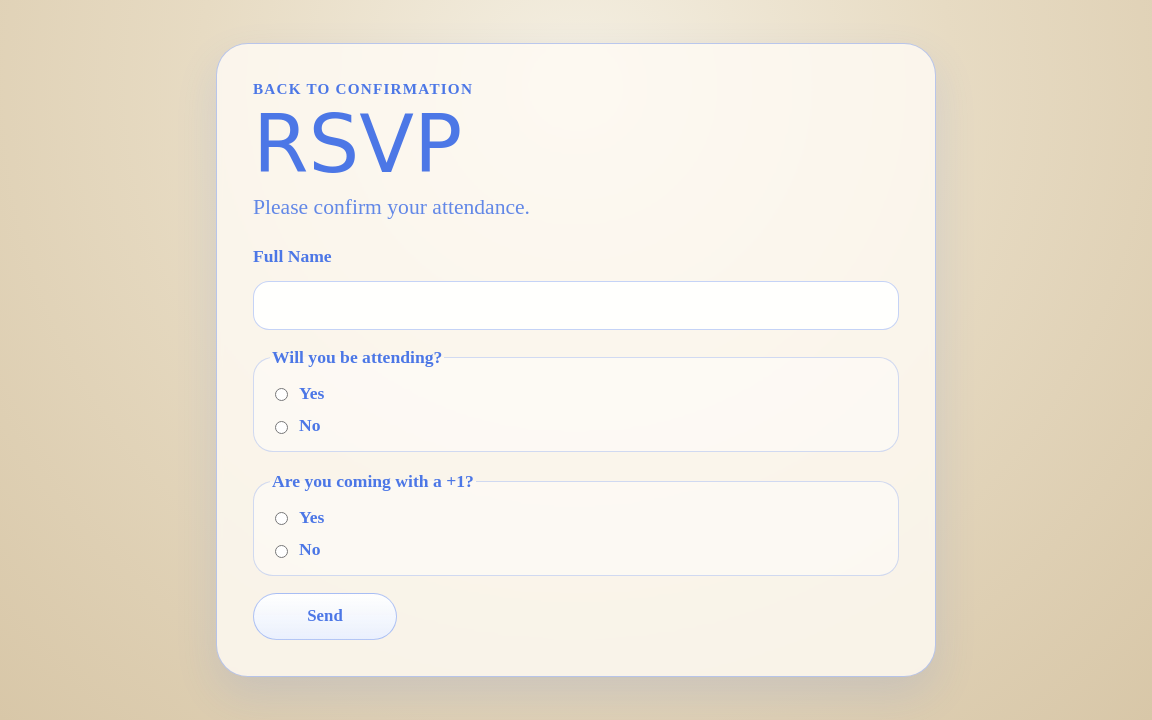
rsvp page › saves the RSVP and shows a success message without requiring the email step
The width and height of the screenshot is (1152, 720).
Type "Jake Example" into the field labelled "Full Name" at (576, 306), box [253, 281, 899, 330]
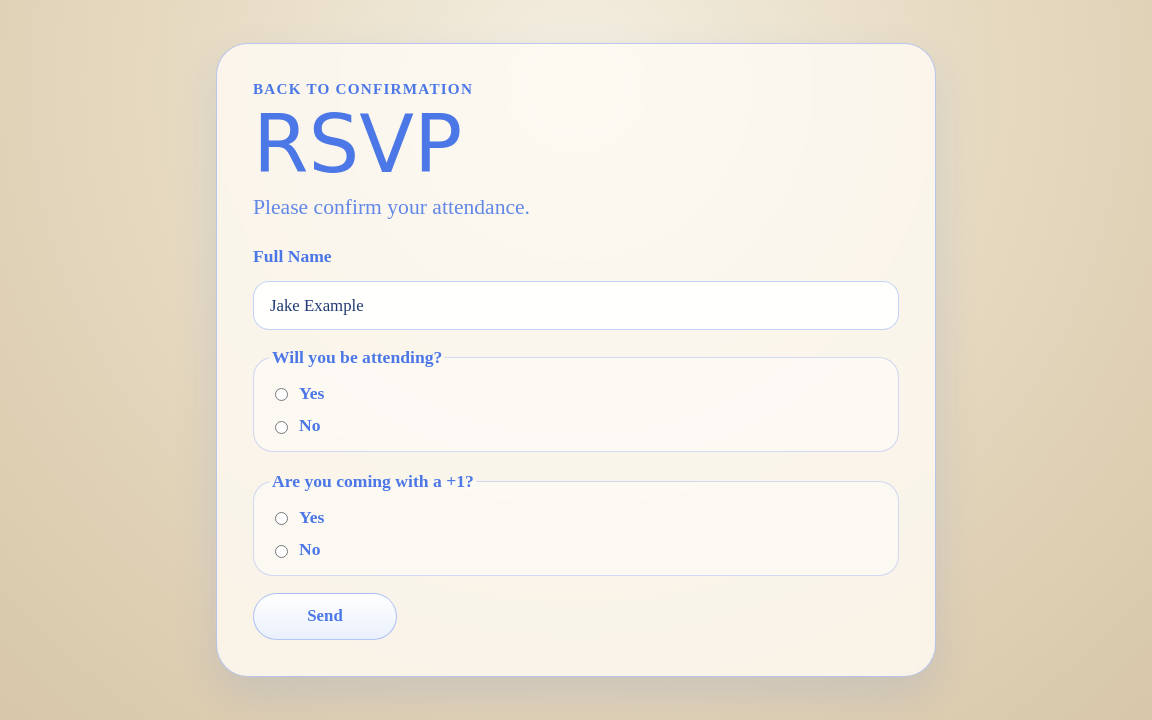
Click the radio button labelled "Yes" below "Will you be attending?" at (282, 395), box [275, 388, 288, 402]
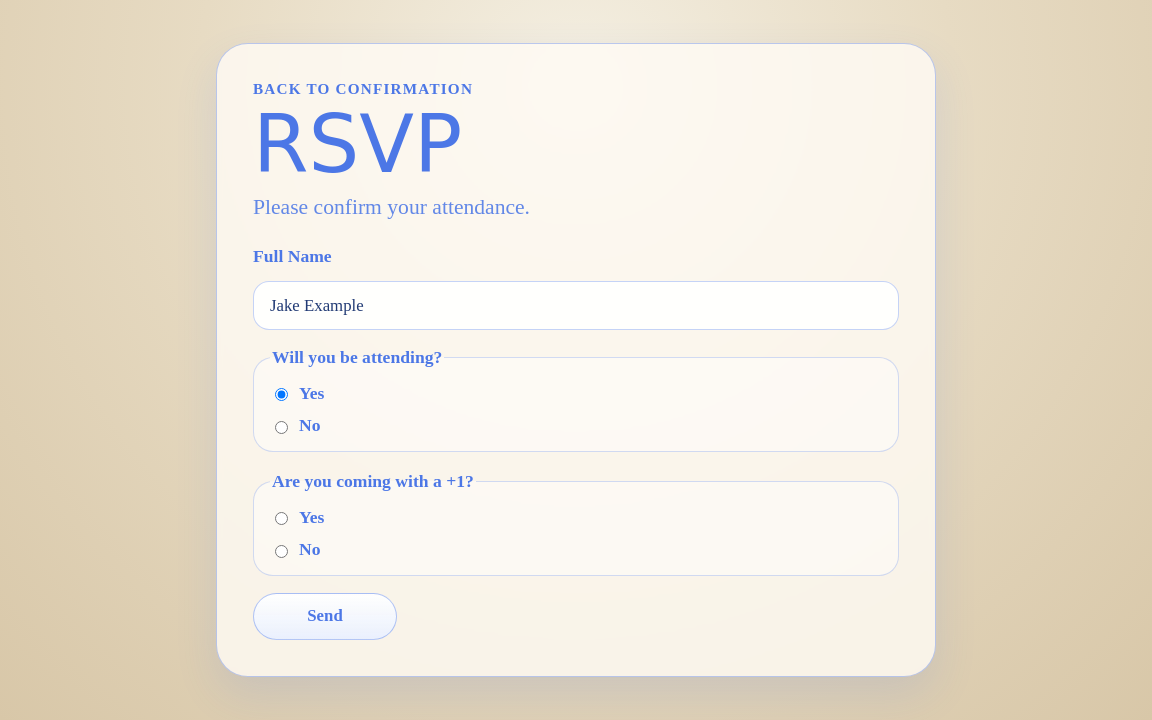
Click the radio button labelled "No" below "Are you coming with a +1?" at (282, 551), box [275, 545, 288, 558]
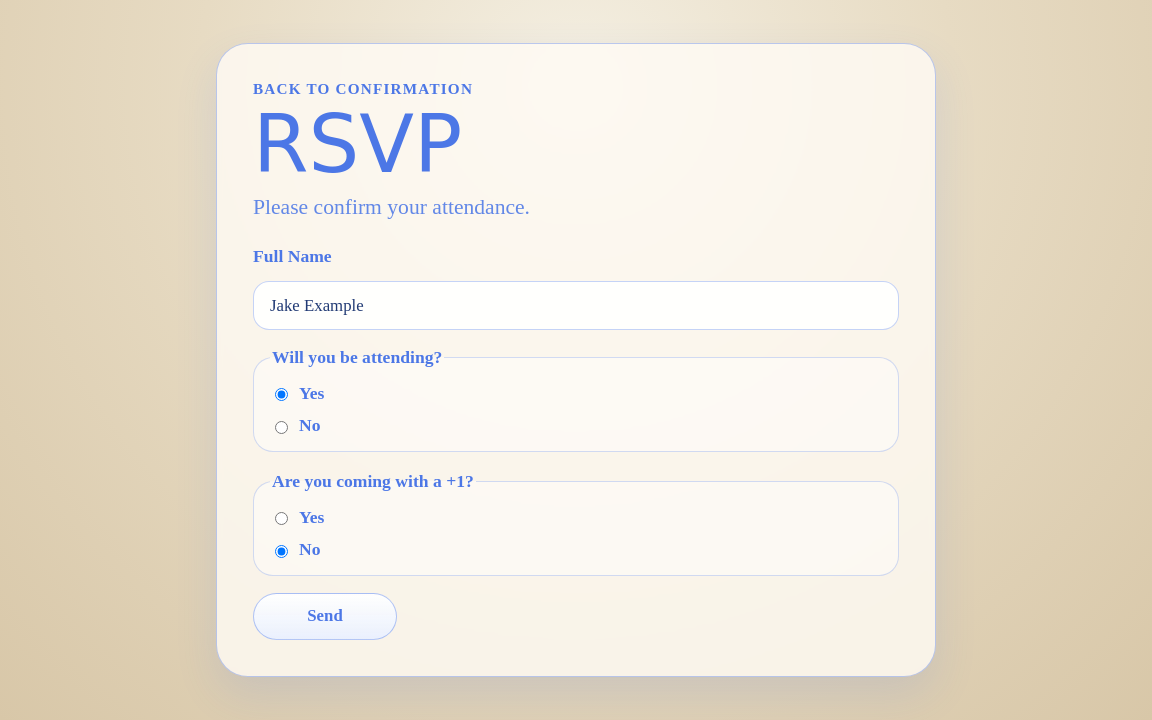
Click the button "Send" at (325, 616), box [253, 593, 397, 640]
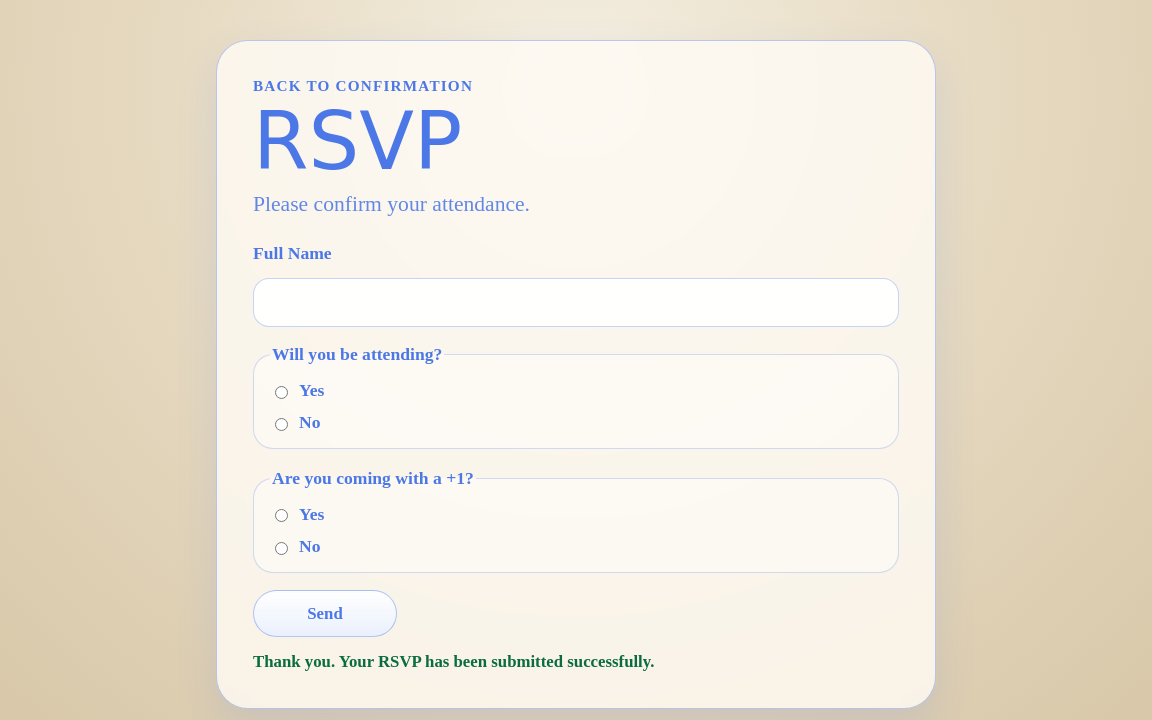
Result: the text "Thank you. Your RSVP has been submitted successfully." is shown at [253, 652, 654, 670]
